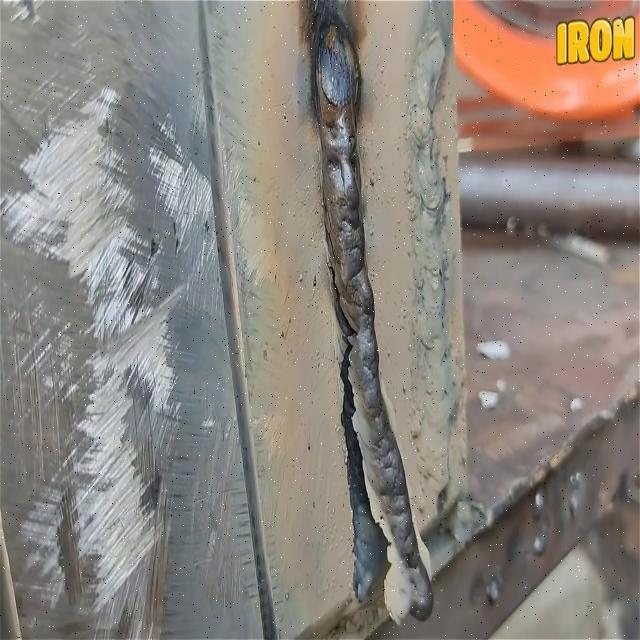Crack: (340, 344, 388, 601)
